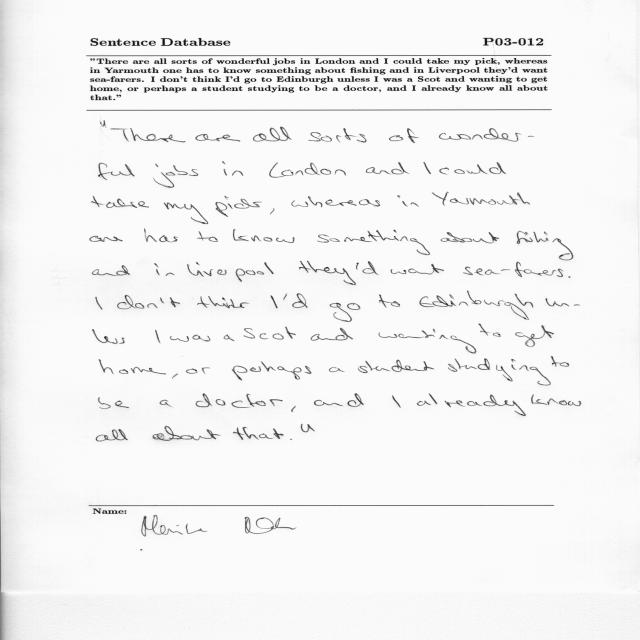word: (419, 291, 533, 320), (317, 230, 430, 255), (448, 359, 551, 386), (379, 329, 477, 354), (417, 394, 526, 416), (187, 262, 274, 282), (517, 231, 573, 260), (232, 361, 312, 381), (463, 262, 563, 277), (432, 192, 530, 206), (299, 261, 356, 285), (439, 128, 535, 142), (216, 196, 275, 217), (196, 394, 283, 408), (269, 163, 346, 178), (154, 164, 199, 188), (99, 359, 166, 375), (111, 128, 185, 142), (153, 426, 221, 441), (358, 360, 434, 373), (164, 202, 208, 224), (117, 295, 180, 309), (515, 325, 554, 347), (233, 229, 294, 243), (308, 128, 367, 142), (439, 162, 507, 174), (308, 196, 380, 207), (314, 393, 364, 407), (91, 196, 149, 208), (243, 327, 296, 340), (197, 296, 249, 309), (233, 427, 284, 440), (441, 232, 499, 243), (99, 163, 135, 180), (253, 127, 292, 142), (330, 303, 360, 322), (310, 328, 353, 341), (531, 395, 581, 406), (391, 264, 444, 274), (366, 162, 409, 174), (93, 329, 125, 344), (389, 128, 419, 143), (144, 229, 178, 242), (92, 265, 130, 276), (96, 429, 128, 441), (283, 293, 308, 308), (196, 134, 241, 142), (99, 397, 129, 409), (356, 261, 379, 275), (478, 324, 501, 337), (223, 162, 244, 176), (379, 294, 400, 308), (170, 335, 211, 342), (545, 298, 580, 306), (154, 263, 175, 276), (397, 195, 419, 207), (197, 231, 218, 242), (90, 236, 123, 242), (551, 356, 569, 367), (186, 367, 210, 374), (291, 200, 308, 207), (392, 395, 401, 408), (301, 424, 315, 432), (423, 162, 431, 174), (271, 296, 278, 309), (159, 400, 172, 407), (155, 330, 161, 343), (329, 367, 344, 372), (96, 297, 102, 309), (224, 335, 235, 341), (101, 121, 107, 128), (172, 374, 178, 379), (291, 406, 296, 412), (568, 276, 571, 278), (290, 439, 292, 440)
